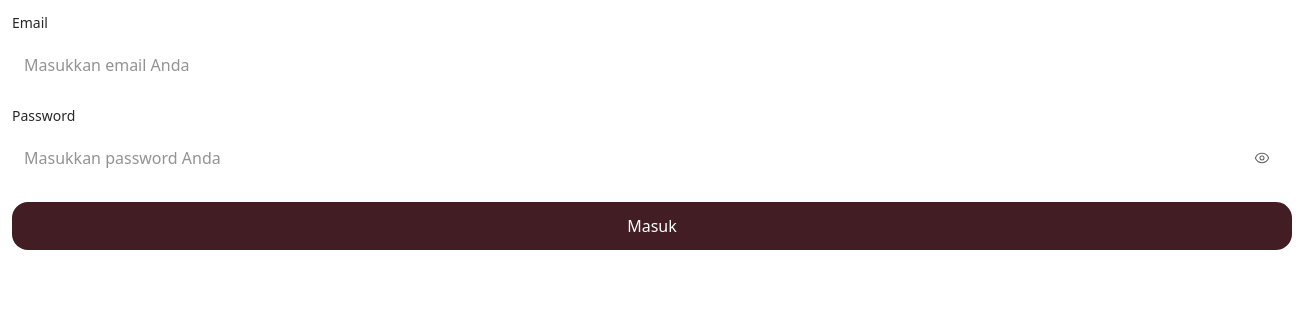
LoginForm hydration security › preserves the generic invalid-credentials message
Type "synthetic@example.test" into the field labelled "Email" at (652, 65), box [12,41,1292,89]
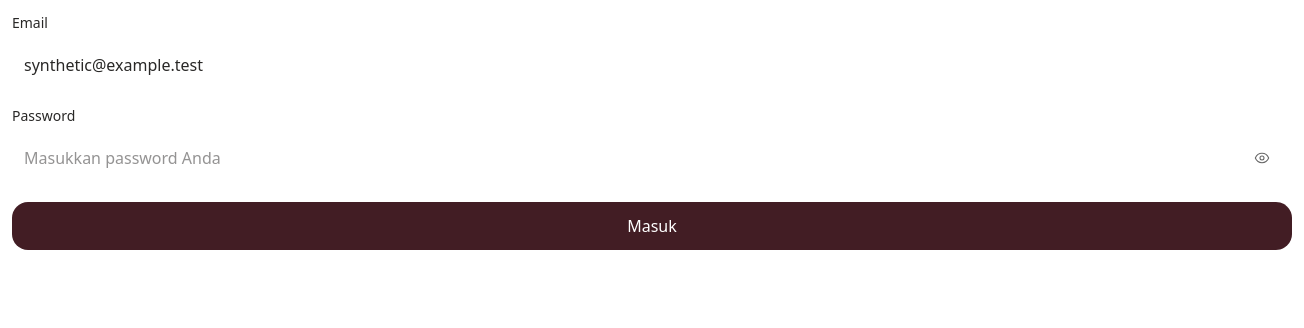
Type "synthetic-test-password" into the password field labelled "Password" at (652, 158), box [12,134,1292,182]
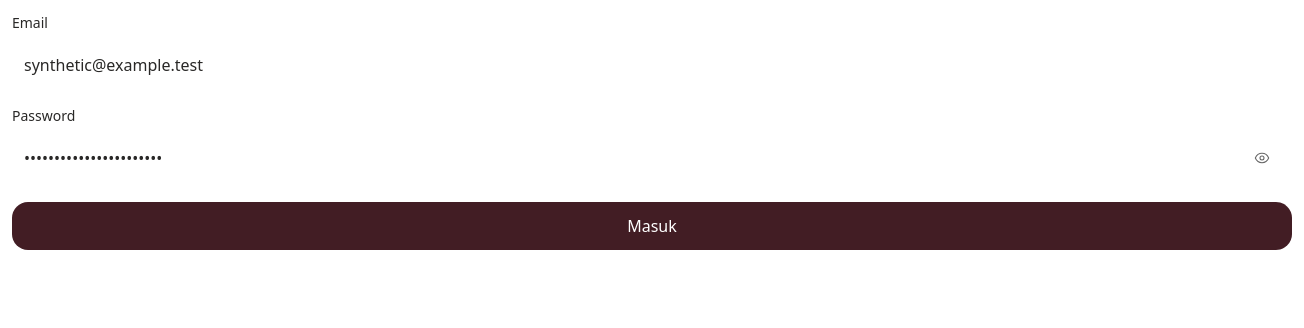
Submit the form "Masuk"
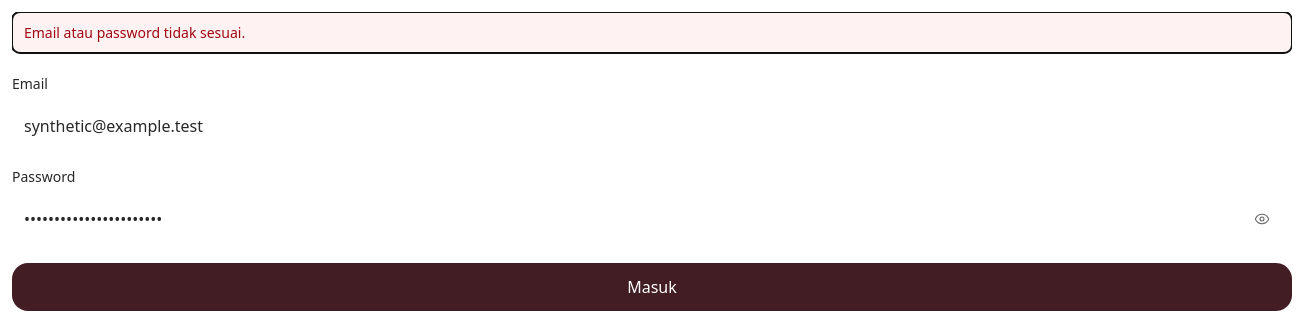
Result: the message reads "Email atau password tidak sesuai." at [24,23,245,42]
